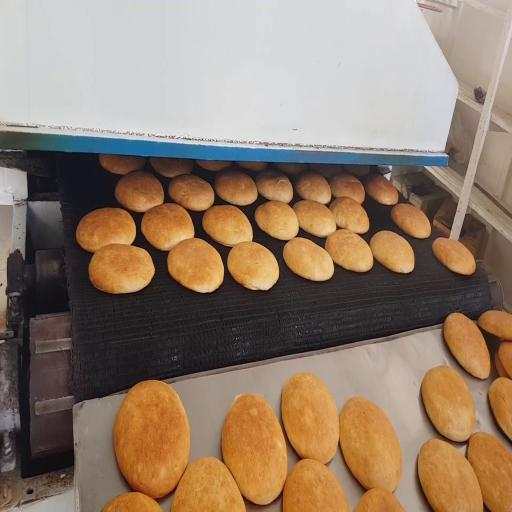bread: (114, 381, 190, 498), (222, 394, 287, 504), (340, 397, 402, 491), (282, 373, 339, 464), (418, 439, 483, 511), (421, 366, 475, 441), (171, 457, 245, 511), (283, 459, 349, 511), (468, 432, 511, 511), (89, 244, 154, 293), (444, 313, 490, 378), (168, 238, 223, 292), (76, 208, 136, 252), (141, 203, 194, 251), (228, 242, 279, 290), (283, 238, 334, 281), (326, 229, 373, 272), (115, 171, 164, 212), (203, 206, 252, 246), (370, 231, 414, 273), (255, 202, 299, 240), (169, 174, 214, 211), (433, 238, 475, 275), (293, 201, 336, 237), (214, 170, 257, 205), (330, 197, 369, 234), (489, 378, 511, 440), (391, 204, 430, 238), (256, 170, 293, 203), (354, 488, 404, 511), (296, 172, 331, 204), (330, 173, 365, 204), (102, 493, 161, 511), (365, 175, 398, 205), (150, 157, 193, 178), (479, 311, 511, 339), (99, 155, 145, 174), (498, 341, 511, 377), (310, 164, 343, 178), (495, 350, 510, 378), (196, 160, 231, 171), (275, 163, 307, 175), (343, 164, 370, 177), (237, 162, 267, 172)
